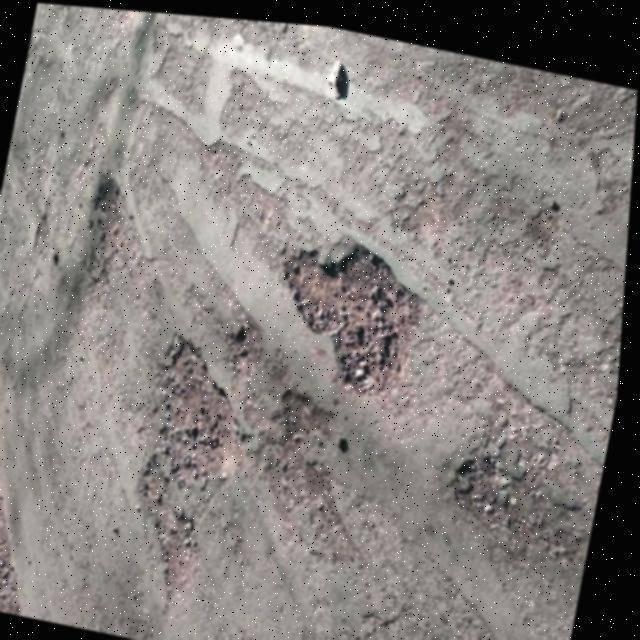pothole: (116, 321, 270, 623), (262, 220, 439, 400), (75, 166, 148, 292)
